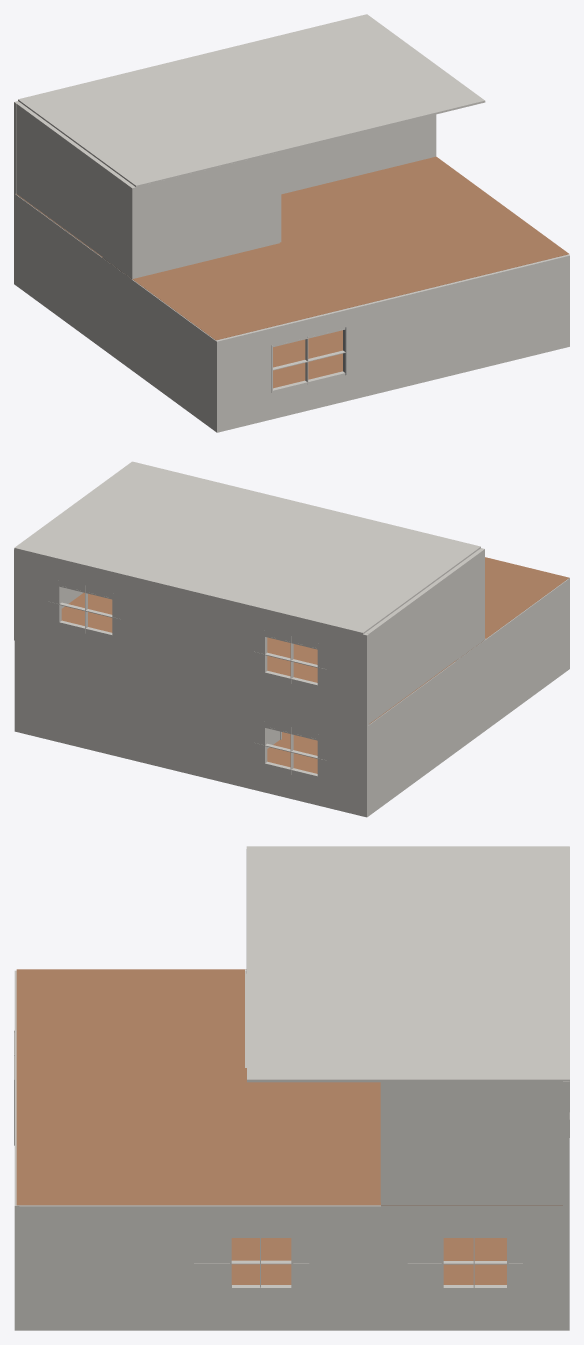
Rendered from cleanHouse.fbx.
The picture shows the model from 3 angles, top to bottom: view 1: azimuth 30°, elevation 25°; view 2: azimuth 150°, elevation 25°; view 3: azimuth 270°, elevation 25°; orthographic projection. The views are drawn at different scales.
Visible parts, largest first — view 1: pCube82, pCube81, sExteriorWall, sExteriorWall1, bedroom1InteriorWall7, bedroom1InteriorWall11, bedroom1InteriorWall18, pCube79; view 2: pCube82, nExteriorWall, sExteriorWall1, nExteriorWall2, nExteriorWall3, bedroom1InteriorWall11, pCube81, pCube79; view 3: pCube82, pCube81, wExteriorWall, bedroom1InteriorWall10, pCube79, sExteriorWall, pCube80, nExteriorWall3, nExteriorWall.
Boxes of the visible parts, box(x1,y1,x2,y2) form: pCube82: box(18, 14, 485, 186); pCube81: box(16, 156, 569, 340); sExteriorWall: box(214, 254, 569, 432); sExteriorWall1: box(16, 195, 214, 430); bedroom1InteriorWall7: box(136, 152, 281, 277); bedroom1InteriorWall11: box(16, 102, 136, 278); bedroom1InteriorWall18: box(281, 115, 432, 194); pCube79: box(273, 330, 342, 388); pCube82: box(14, 461, 480, 634); nExteriorWall: box(14, 640, 369, 817); sExteriorWall1: box(369, 580, 567, 815); nExteriorWall2: box(159, 585, 369, 726); nExteriorWall3: box(14, 549, 161, 675); bedroom1InteriorWall11: box(365, 548, 484, 723); pCube81: box(61, 557, 569, 723); pCube79: box(267, 732, 317, 773); pCube82: box(247, 846, 569, 1082); pCube81: box(16, 969, 562, 1205); wExteriorWall: box(21, 1206, 562, 1330); bedroom1InteriorWall10: box(381, 1082, 562, 1206); pCube79: box(231, 1238, 506, 1284); sExteriorWall: box(14, 970, 20, 1330); pCube80: box(19, 970, 562, 1206); nExteriorWall3: box(563, 1081, 569, 1206); nExteriorWall: box(563, 1206, 569, 1330).
Size of the model in its own units: 300 by 150 by 299.
